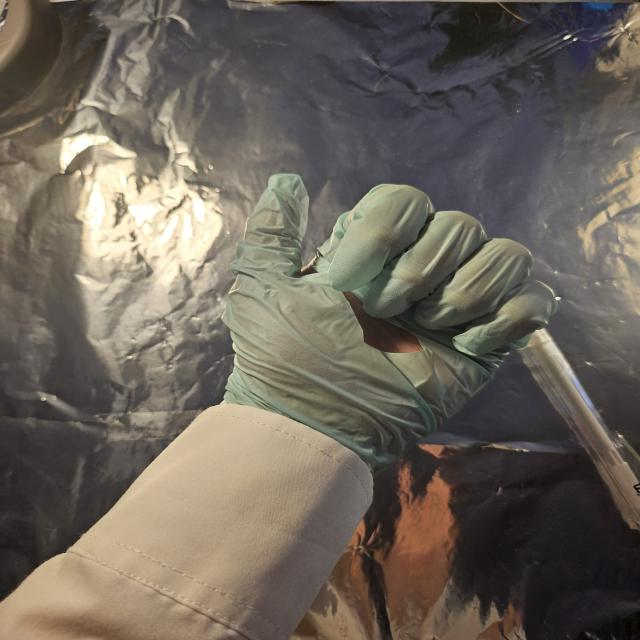gloves_damaged: (215, 163, 558, 467)
